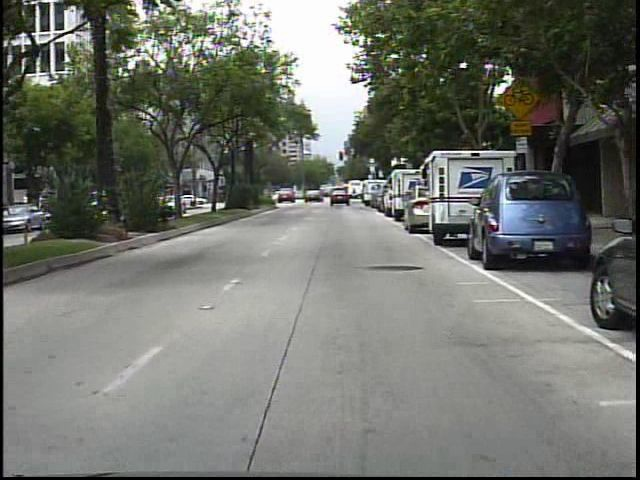person: (351, 183, 359, 204)
